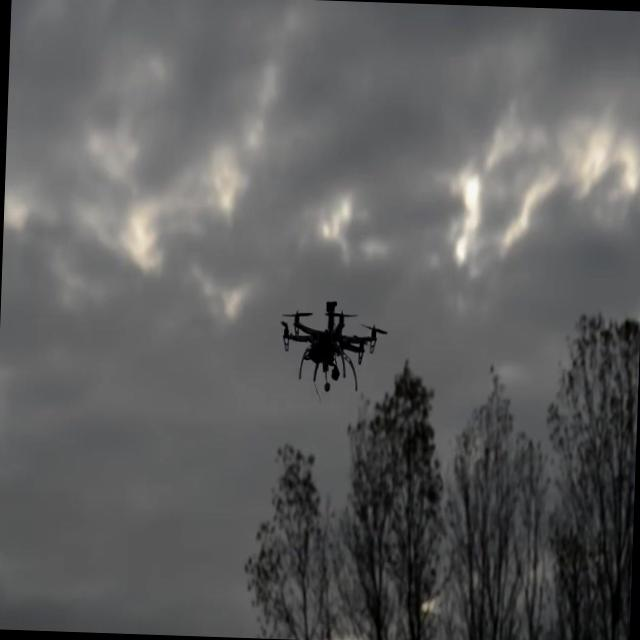drone: (278, 297, 390, 405)
